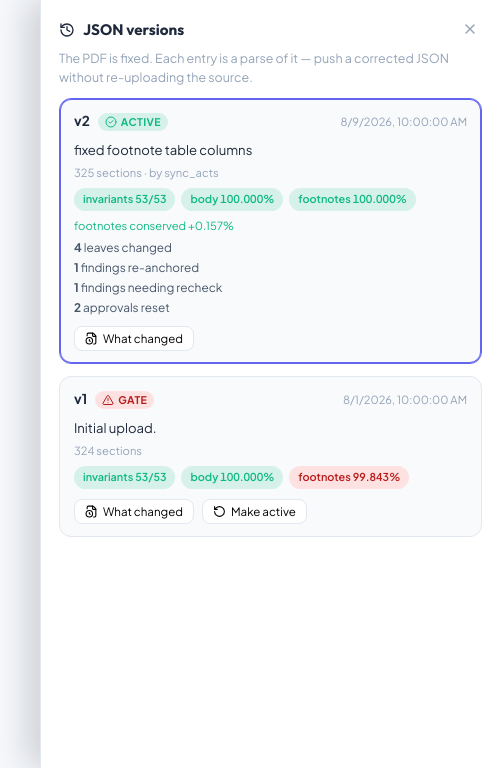
VersionPanel › fetches and renders the leaf-level diff on demand
Click the button "What changed" below "8/9/2026, 10:00:00 AM": (134, 339) [74, 326, 194, 352]
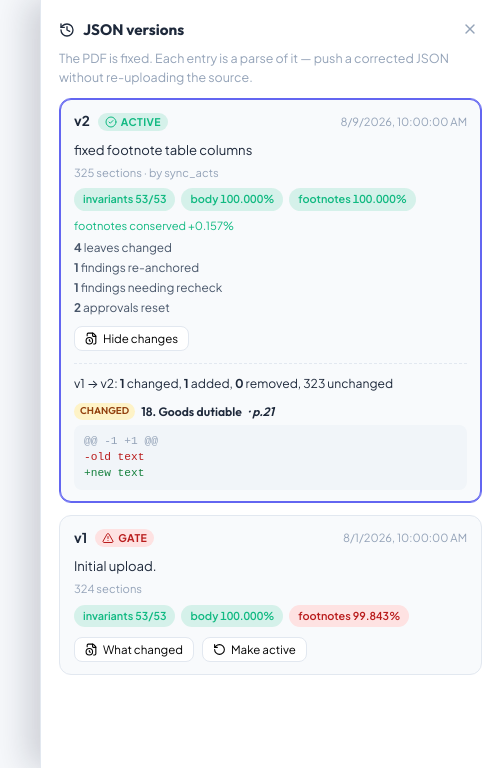
Now the text "changed" is shown, box [74, 403, 135, 420]
Now the heading "changed 18. Goods dutiable · p.21" is shown, box [74, 403, 274, 420]
Now the text "+new text" is shown, box [84, 467, 144, 479]
